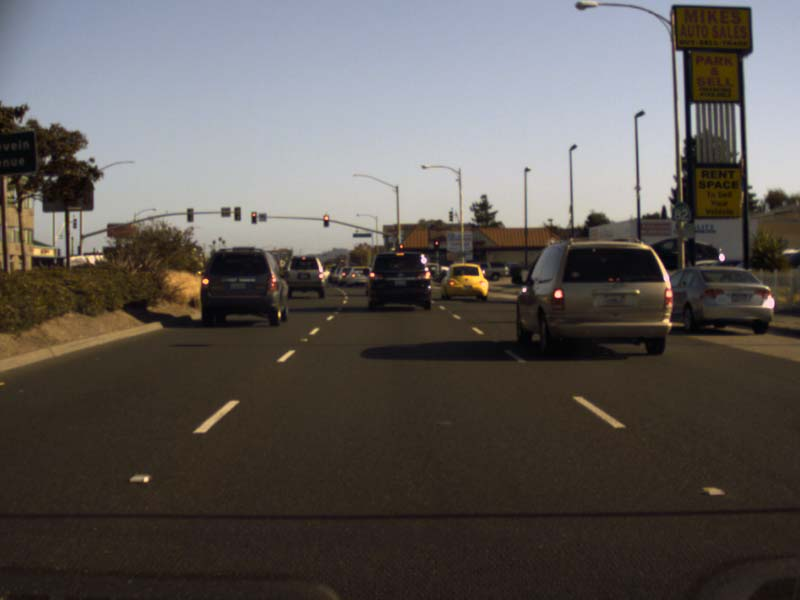Red: (250, 212, 257, 224), (322, 214, 328, 227), (433, 239, 439, 249), (398, 244, 403, 253)
